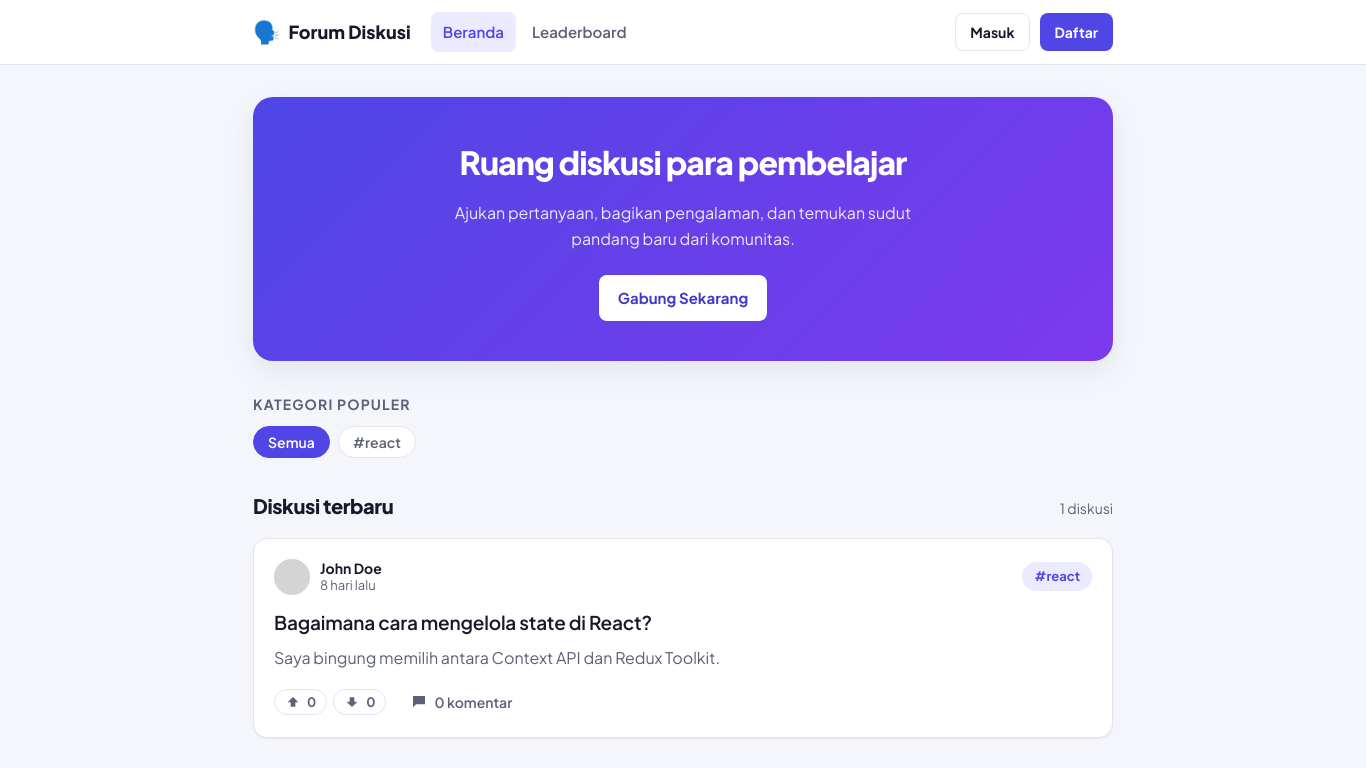
Test case: Beranda & Filter Kategori › harus membuka halaman detail ketika judul diskusi ditekan
Click the link "Bagaimana cara mengelola state di React?" at (463, 622), box x1=274 y1=610 x2=652 y2=634
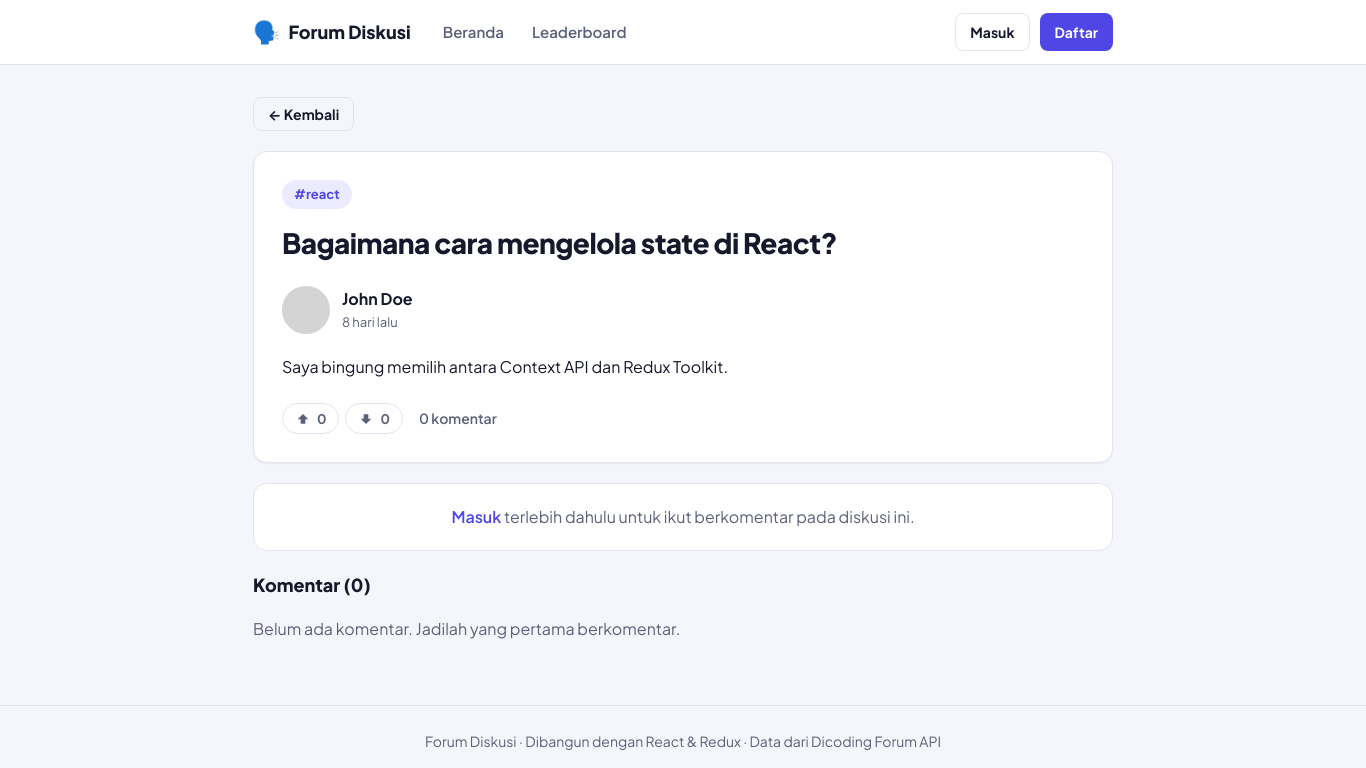
Expected: the link "Masuk" next to "Daftar" is shown, x1=955 y1=13 x2=1029 y2=51
Now the text "Belum ada komentar. Jadilah yang pertama berkomentar." is shown, box x1=253 y1=618 x2=680 y2=639
